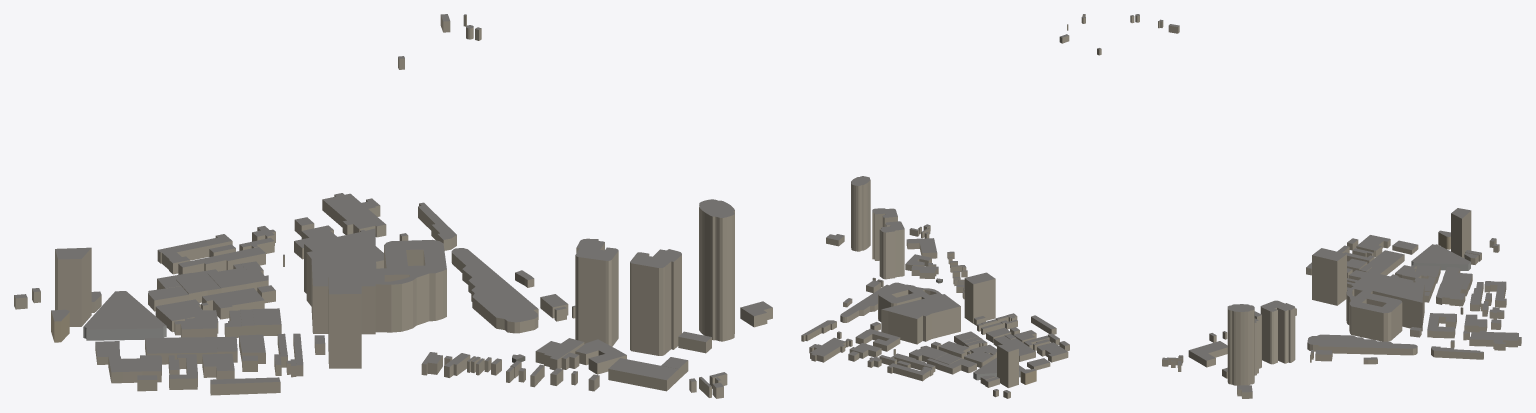
Rendered from buildings.glb.
3 views of the same model, side by side, from view 1: azimuth 30°, elevation 25°; view 2: azimuth 150°, elevation 25°; view 3: azimuth 270°, elevation 25° (orthographic). The views are drawn at different scales.
Visible parts, largest first — view 1: T_E1_N3_buildings; view 2: T_E1_N3_buildings; view 3: T_E1_N3_buildings.
Part boxes in pixels (x1,y1,x2,y2): T_E1_N3_buildings: (14,14,772,398); T_E1_N3_buildings: (801,14,1101,398); T_E1_N3_buildings: (1130,14,1521,398).
Size of the model in its own units: 521 by 414 by 532.
